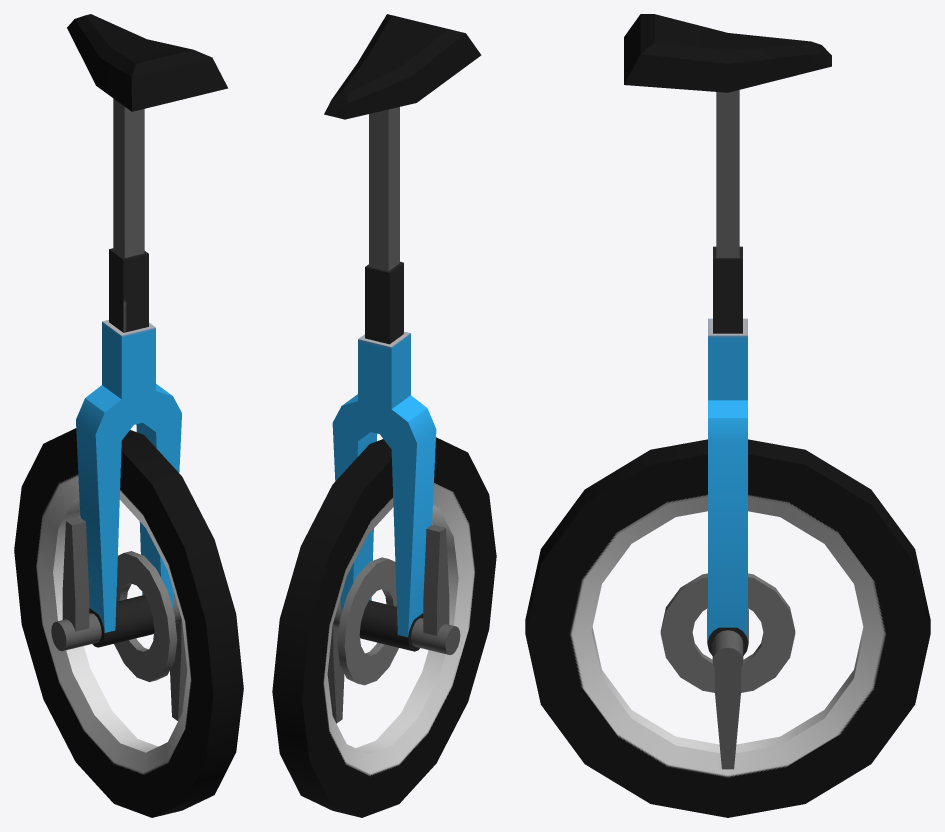
The model's file is unicycle.glb.
3 views of the same model, side by side, from view 1: azimuth 30°, elevation 25°; view 2: azimuth 150°, elevation 25°; view 3: azimuth 270°, elevation 25° (orthographic). The views are drawn at different scales.
Visible parts, largest first — view 1: Unicycle Wheel, Unicycle Frame and Seat; view 2: Unicycle Wheel, Unicycle Frame and Seat; view 3: Unicycle Wheel, Unicycle Frame and Seat.
Boxes of the visible parts, <box> form: Unicycle Wheel: <box>14,428,243,817</box>; Unicycle Frame and Seat: <box>67,14,227,632</box>; Unicycle Wheel: <box>272,437,496,817</box>; Unicycle Frame and Seat: <box>324,14,481,637</box>; Unicycle Wheel: <box>525,439,930,817</box>; Unicycle Frame and Seat: <box>624,14,831,640</box>.
Size of the model in its own units: 0.4931 by 2.59 by 1.21.
Materials: 1 (1 with a texture image).
